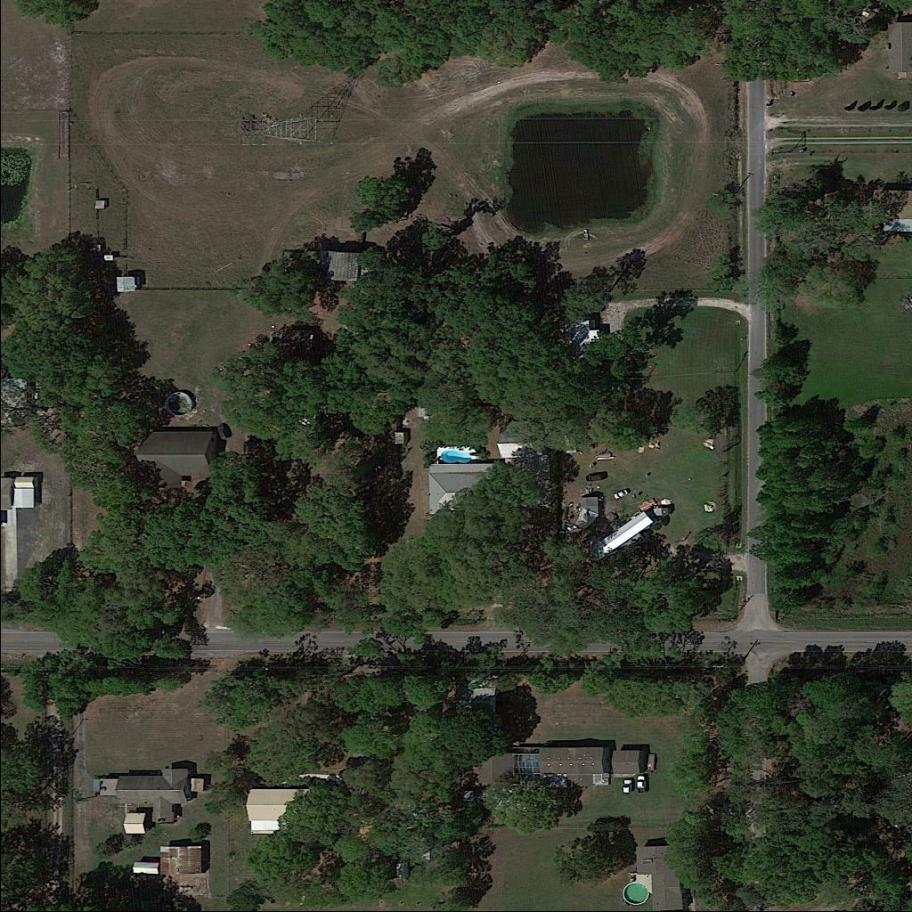small-vehicle: (612, 488, 630, 501), (637, 775, 647, 794), (585, 473, 603, 483), (623, 779, 633, 794)
